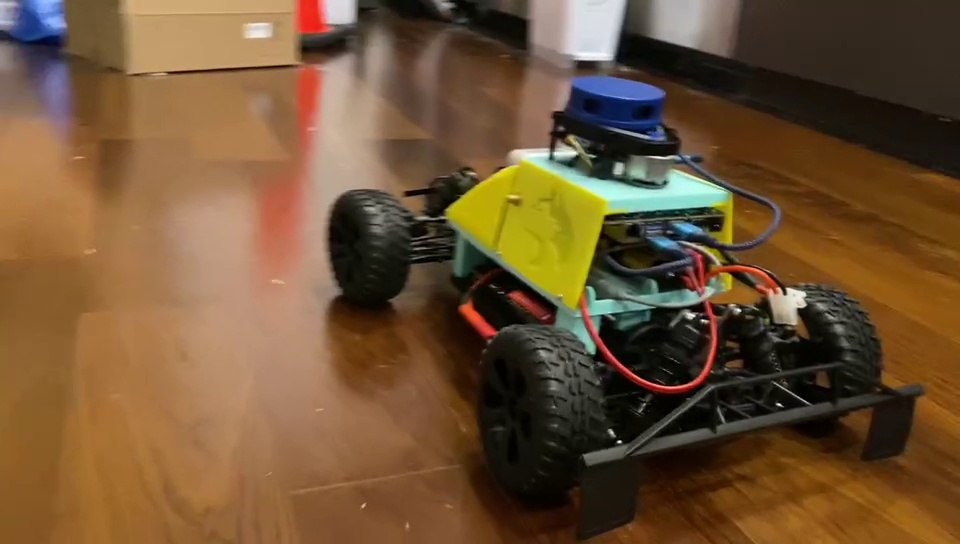mushr_car: (330, 69, 928, 536)
